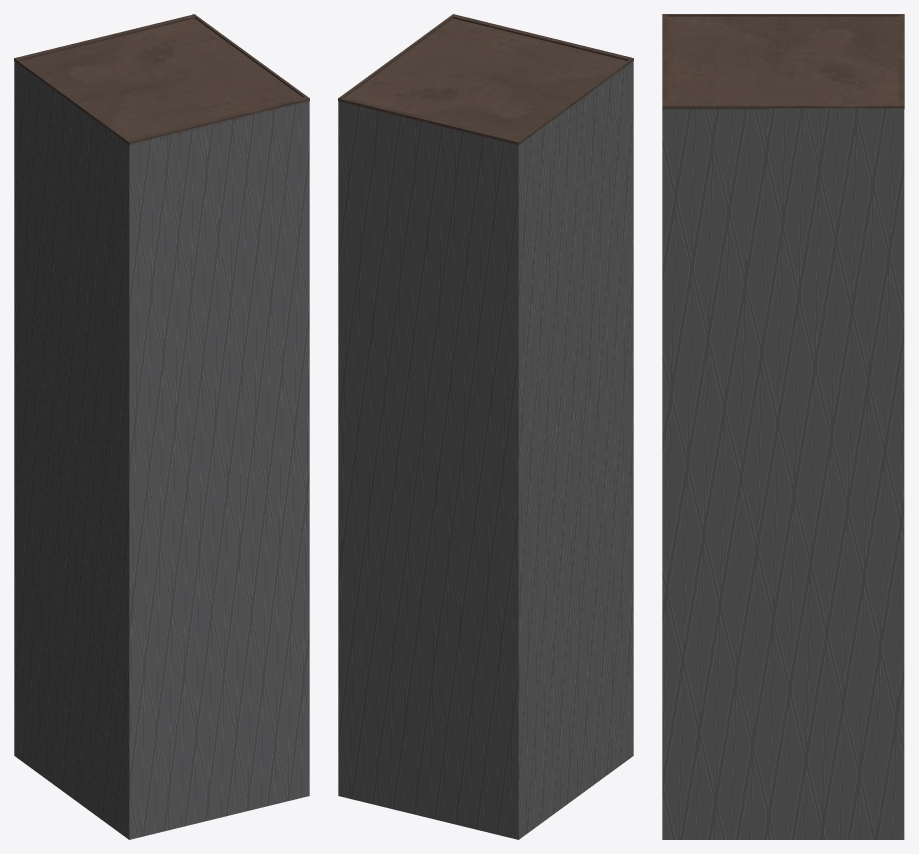
The model's file is build12.fbx.
The picture shows the model from 3 angles, left to right: view 1: azimuth 30°, elevation 25°; view 2: azimuth 150°, elevation 25°; view 3: azimuth 270°, elevation 25°; orthographic projection. The views are drawn at different scales.
Parts seen in each view (by area): view 1: Construction_Building; view 2: Construction_Building; view 3: Construction_Building.
Boxes of the visible parts, x1,y1,x2,y2 form: Construction_Building: (14, 14, 309, 839); Construction_Building: (338, 14, 633, 839); Construction_Building: (662, 14, 904, 839).
Size of the model in its own units: 269 by 993 by 297.
Materials: 1 (1 with a texture image).
